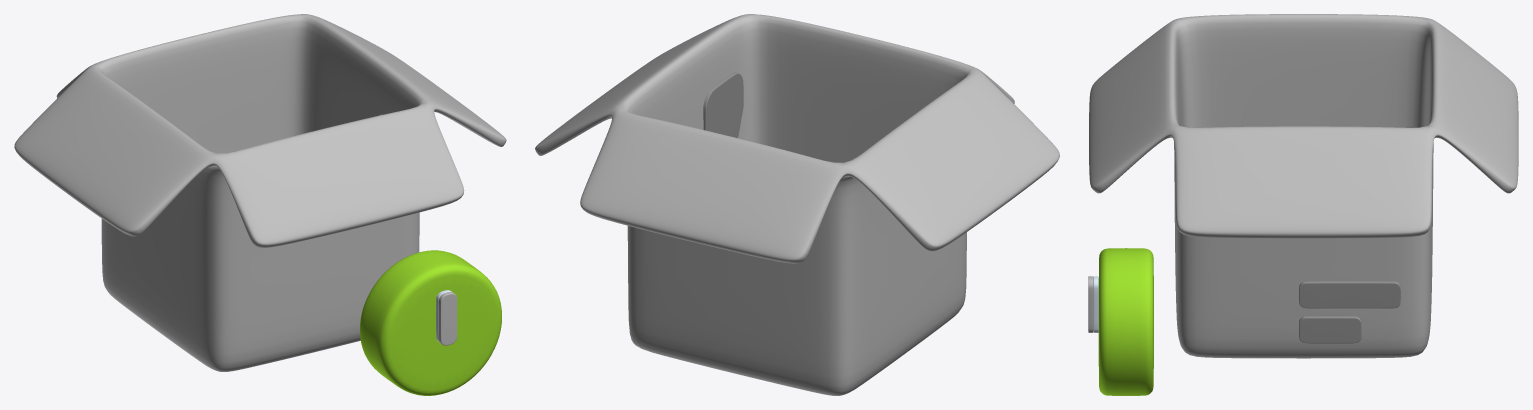
Rendered from returns-animated-3d-icon-145744391584.glb.
3 views of the same model, side by side, from view 1: azimuth 30°, elevation 25°; view 2: azimuth 150°, elevation 25°; view 3: azimuth 270°, elevation 25° (orthographic). The views are drawn at different scales.
Visible parts, largest first — view 1: Box, Base.003, Hand; view 2: Box, Information Detail; view 3: Box, Base.003, Information Detail.
Part boxes in pixels (x1,y1,x2,y2): Box: [14, 14, 506, 371]; Base.003: [360, 250, 501, 395]; Hand: [438, 292, 457, 345]; Box: [535, 14, 1059, 395]; Information Detail: [703, 72, 743, 138]; Box: [1089, 14, 1518, 358]; Base.003: [1098, 248, 1153, 395]; Information Detail: [1299, 281, 1400, 343].
Bounding box in the file's own units: 3.09 × 2.03 × 2.89.
